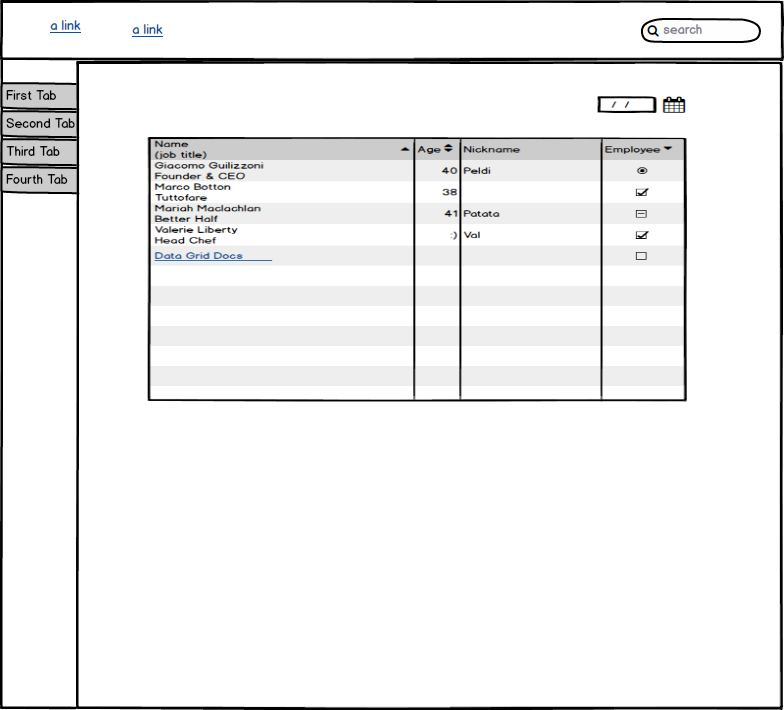date_picker: (594, 89, 689, 118)
navlink: (40, 11, 88, 39), (124, 16, 172, 44)
search: (636, 13, 767, 47)
sidebar: (1, 75, 82, 208)
table: (145, 131, 697, 407)
